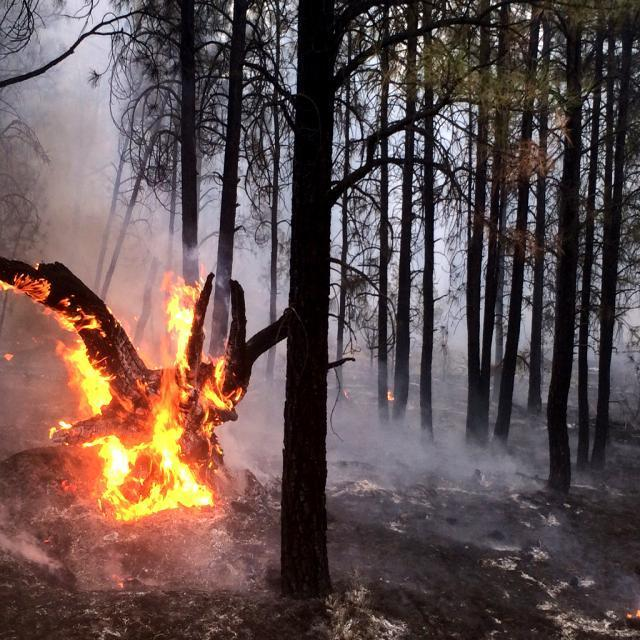Fire: (1, 247, 222, 518)
Smoke: (306, 351, 519, 553)
